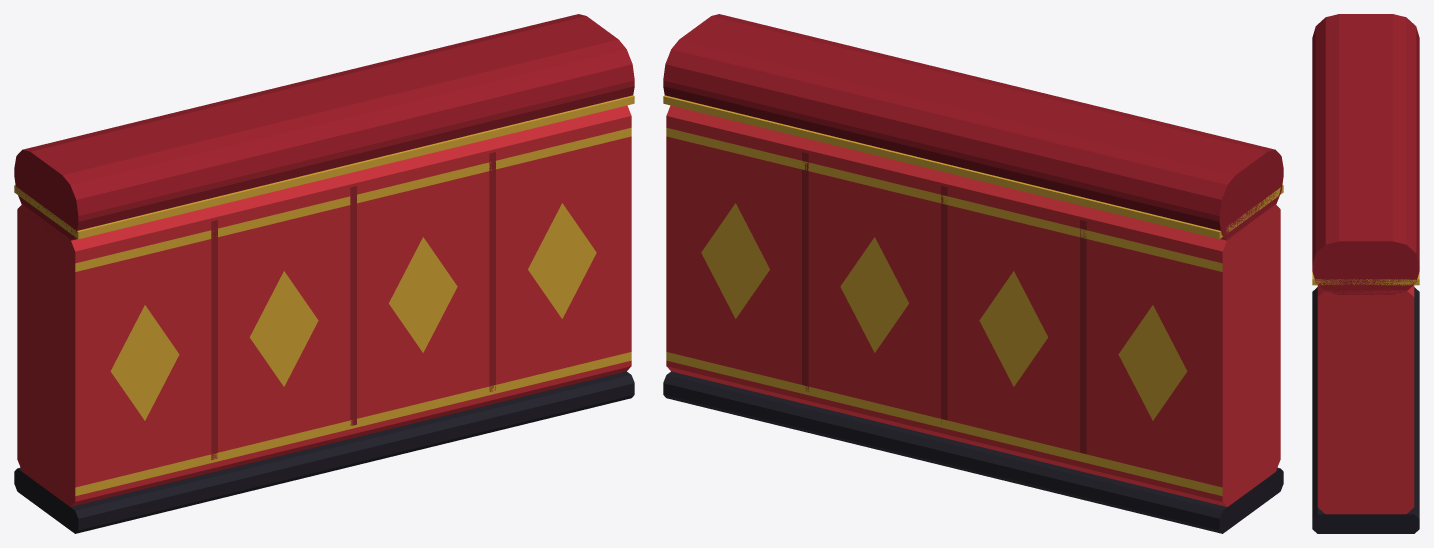
File: circus-wall1.glb
3 views of the same model, side by side, from view 1: azimuth 30°, elevation 25°; view 2: azimuth 150°, elevation 25°; view 3: azimuth 270°, elevation 25° (orthographic). The views are drawn at different scales.
Visible parts, largest first — view 1: circus-wall1; view 2: circus-wall1; view 3: circus-wall1.
Part boxes in pixels (x1=…): circus-wall1: x1=14, y1=14, x2=634, y2=533; circus-wall1: x1=663, y1=14, x2=1283, y2=533; circus-wall1: x1=1312, y1=14, x2=1419, y2=533.
Size of the model in its own units: 2 by 1.2 by 0.4.
